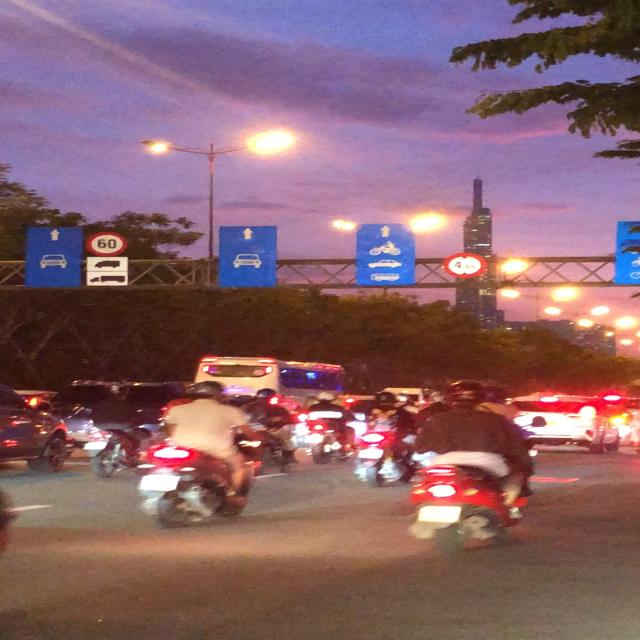Bien bao han che chieu cao: (439, 250, 490, 280)
Bien bao toc do toi da cho phep: (83, 230, 127, 258)
